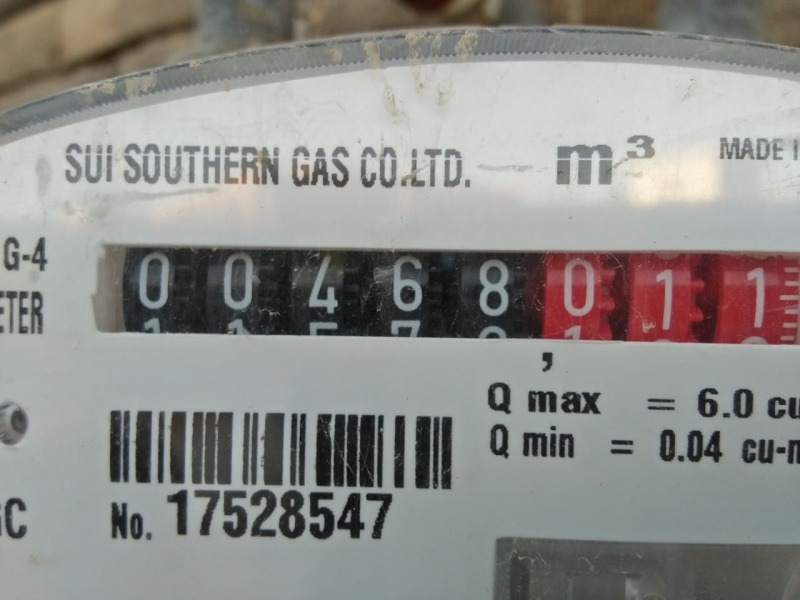ssgc: (94, 236, 795, 351)
